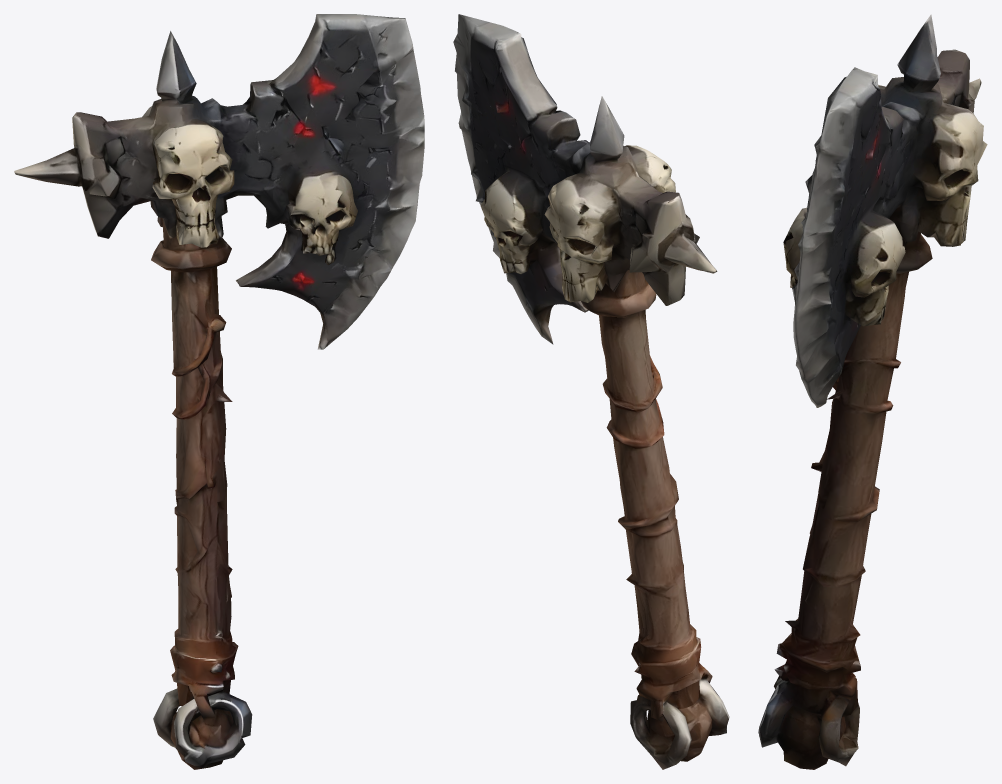
File: BoneKing_Axe-EiA8Q-To.glb
3 renders of one model, left to right at view 1: azimuth 30°, elevation 25°; view 2: azimuth 150°, elevation 25°; view 3: azimuth 270°, elevation 25°, orthographic. The views are drawn at different scales.
Visible parts, largest first — view 1: tripo_node_f8af347e-f0e3-4366-ae91-6af0948797a4; view 2: tripo_node_f8af347e-f0e3-4366-ae91-6af0948797a4; view 3: tripo_node_f8af347e-f0e3-4366-ae91-6af0948797a4.
Boxes of the visible parts, x1,y1,x2,y2 form: tripo_node_f8af347e-f0e3-4366-ae91-6af0948797a4: (14,14,424,769); tripo_node_f8af347e-f0e3-4366-ae91-6af0948797a4: (453,14,729,769); tripo_node_f8af347e-f0e3-4366-ae91-6af0948797a4: (758,14,987,769).
Bounding box in the file's own units: 0.9418 × 1.89 × 0.5074.
Materials: 1 (1 with a texture image).
